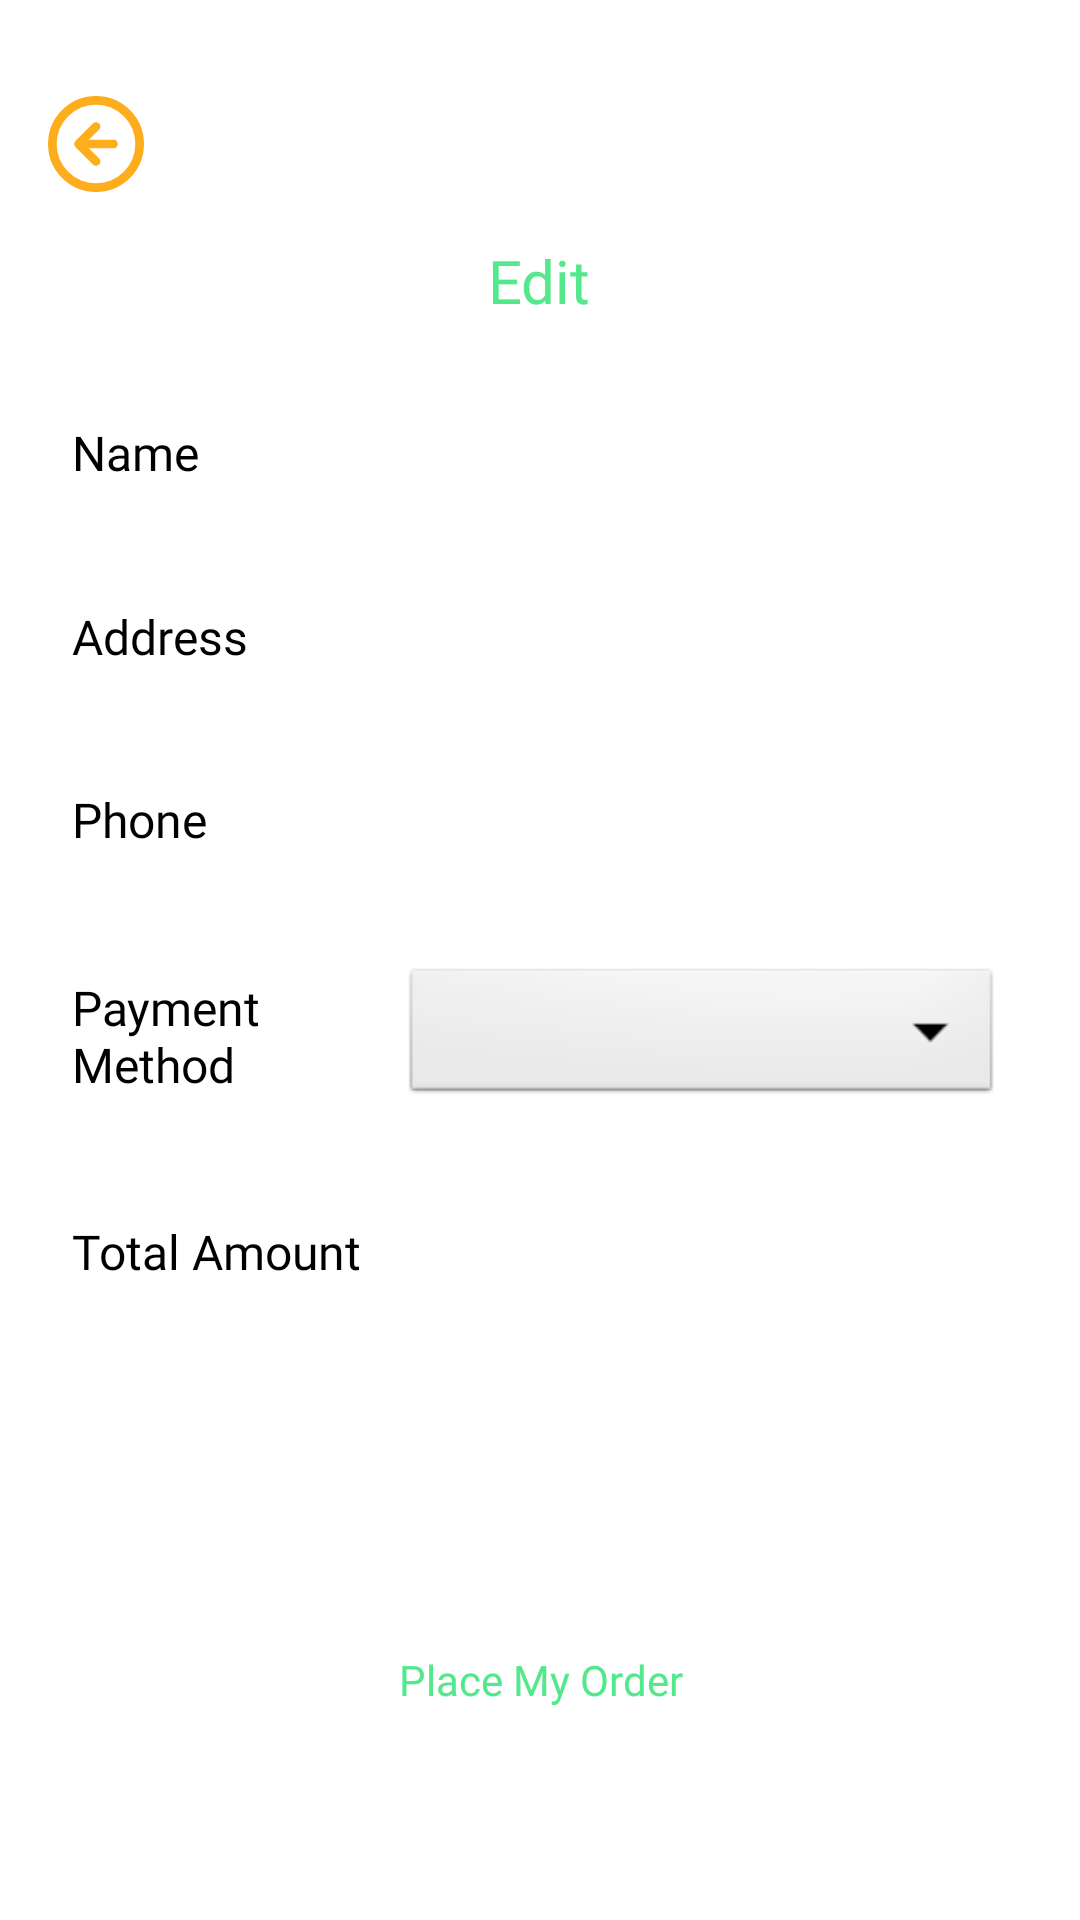

Icons on this 1080 x 1920 Android screen, each with the point to tap as [x,y]:
arrow left: [96,144]
